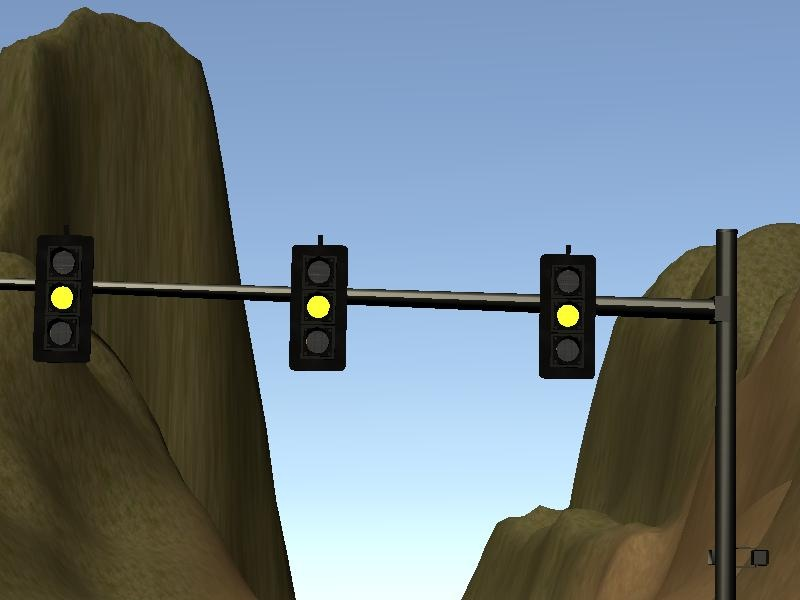YELLOW: (536, 245, 596, 379), (32, 232, 92, 364), (287, 239, 347, 371)
